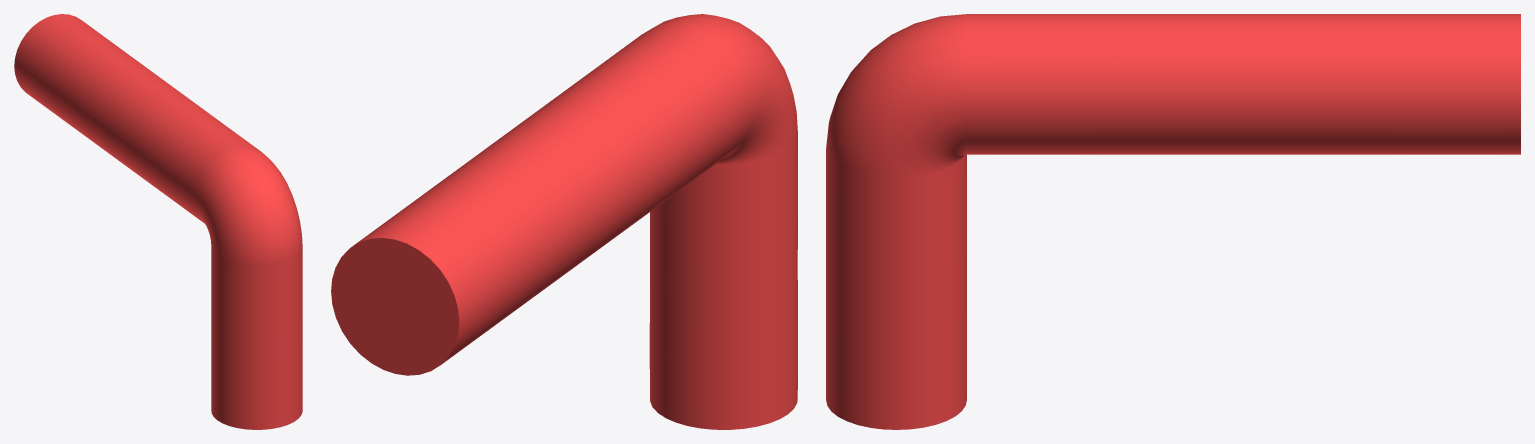
The model's file is 181120 Nozzle Internal.obj.
The picture shows the model from 3 angles, left to right: view 1: azimuth 30°, elevation 25°; view 2: azimuth 150°, elevation 25°; view 3: azimuth 270°, elevation 25°; orthographic projection. The views are drawn at different scales.
Size of the model in its own units: 0.05 by 0.1488 by 0.2467.
